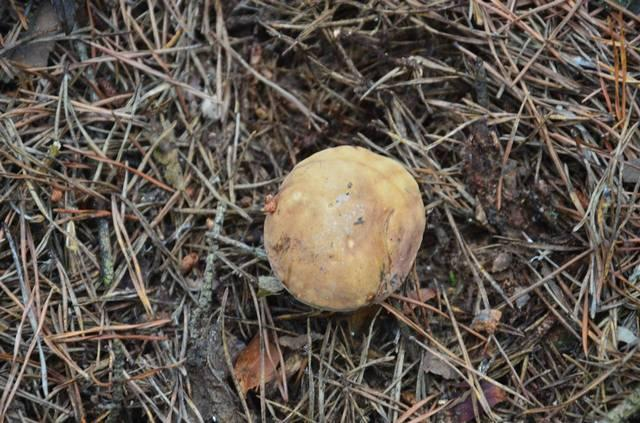Non-edible Mushroom: (261, 143, 427, 317)
